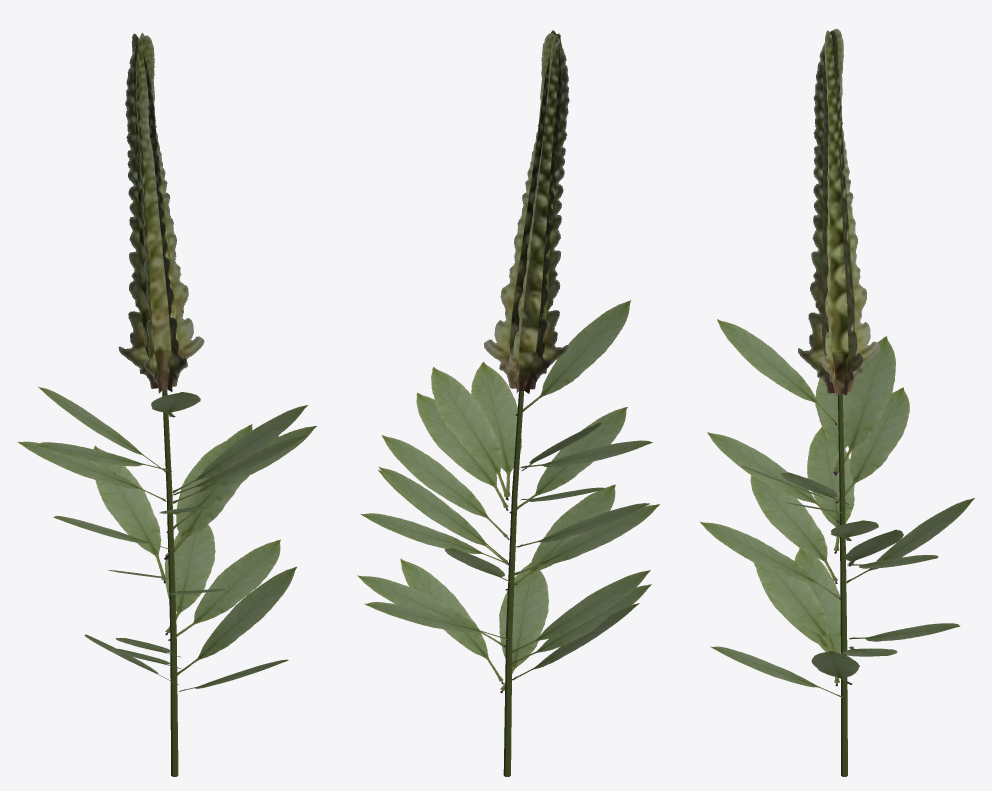
The model's file is category_mesh_flower_3_v2.glb.
3 renders of one model, left to right at view 1: azimuth 30°, elevation 25°; view 2: azimuth 150°, elevation 25°; view 3: azimuth 270°, elevation 25°, orthographic. The views are drawn at different scales.
Visible parts, largest first — view 1: category_mesh_flower_3_v2; view 2: category_mesh_flower_3_v2; view 3: category_mesh_flower_3_v2.
Boxes of the visible parts, left/top/right/bottom form: category_mesh_flower_3_v2: left=17, top=32, right=316, bottom=776; category_mesh_flower_3_v2: left=357, top=30, right=660, bottom=776; category_mesh_flower_3_v2: left=700, top=29, right=974, bottom=776.
Bounding box in the file's own units: 0.2933 × 0.7615 × 0.2682.
Materials: 1 (1 with a texture image).
